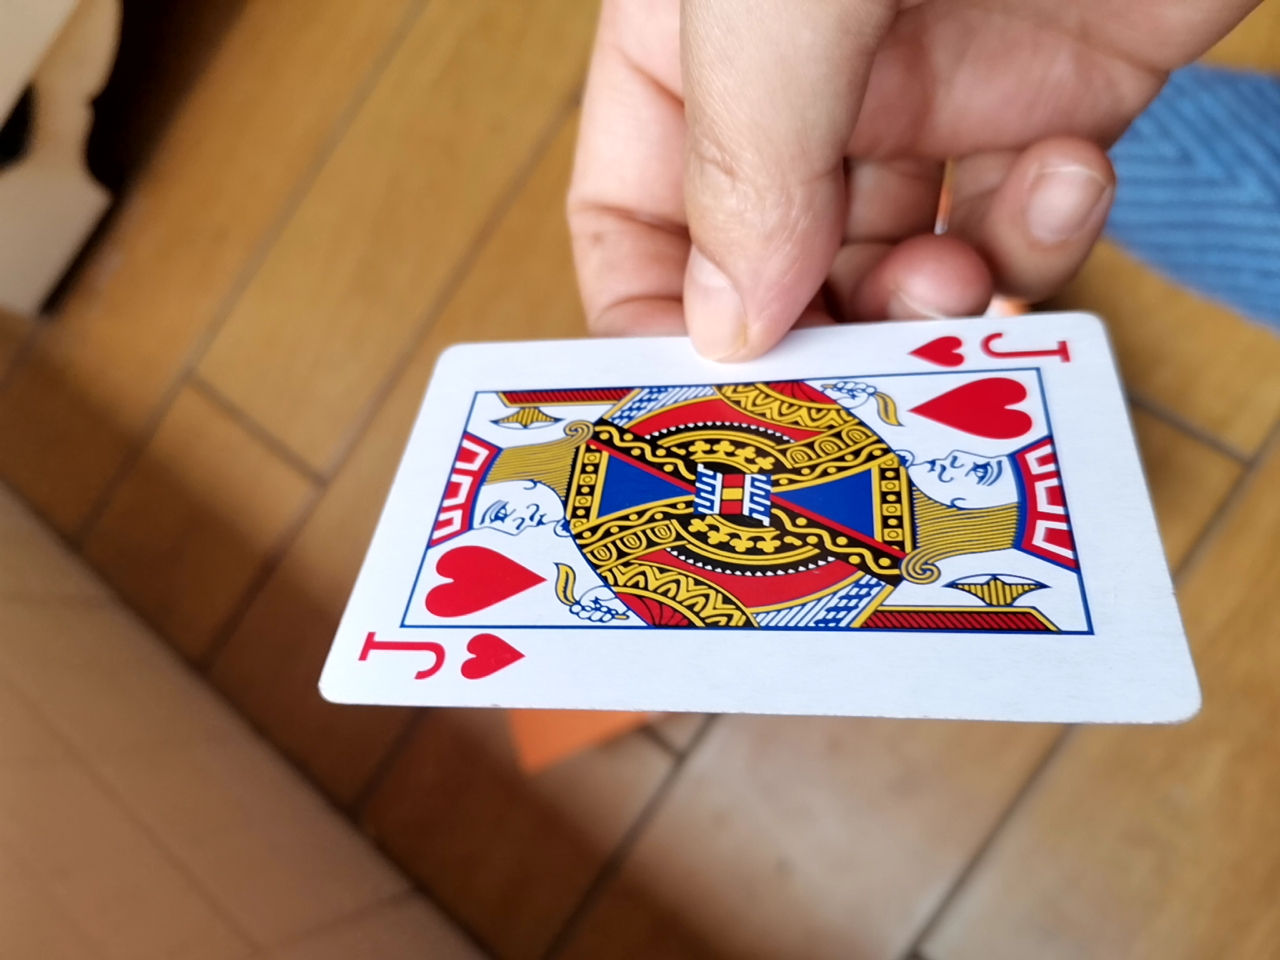hx j: (303, 310, 1186, 727)
